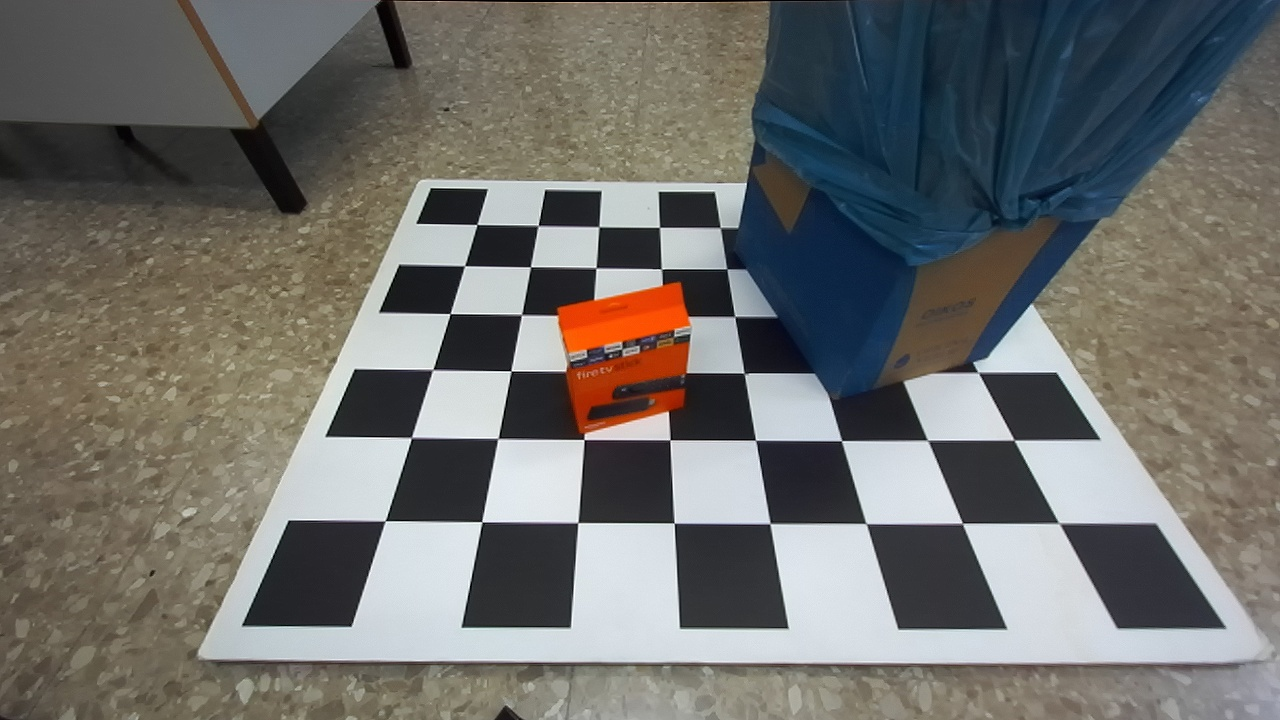caja_manguera: (558, 282, 691, 431)
